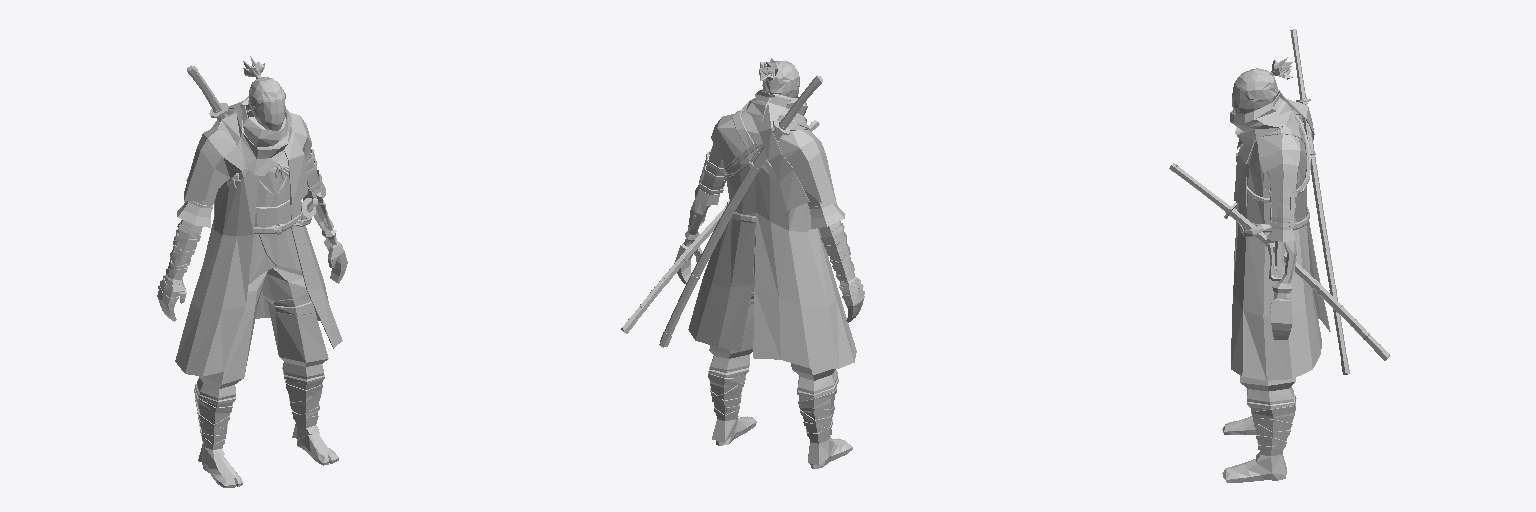
The model's file is sekiro.obj.
3 renders of one model, left to right at view 1: azimuth 30°, elevation 25°; view 2: azimuth 150°, elevation 25°; view 3: azimuth 270°, elevation 25°, orthographic.
Parts seen in each view (by area): view 1: Plane, Legs_Cube.001, Scarf_Circle.001, Jacket_Cube.004, Prosthetic_Cube.002, Cube.004_Cube.005, Arm_Cylinder, Cube.003_Cube.006, Cylinder.002_Cylinder.003, Cylinder.004_Cylinder.007, _Sword.002_Cylinder.006, Hand_Cube.003; view 2: Plane, Legs_Cube.001, Scarf_Circle.001, _Sword.002_Cylinder.006, Arm_Cylinder, Prosthetic_Cube.002, Cylinder.002_Cylinder.003, _Sword.000_Cylinder.002, Cube.004_Cube.005, Cube.003_Cube.006, Cylinder.004_Cylinder.007; view 3: Plane, Prosthetic_Cube.002, Scarf_Circle.001, Legs_Cube.001, _Sword.000_Cylinder.002, _Sword.002_Cylinder.006, Cube.004_Cube.005, Cube.003_Cube.006, Arm_Cylinder, Cylinder.002_Cylinder.003, Cube.006_Cube.010.
Part boxes in pixels (bbox=[...]): Plane: bbox=[175, 109, 342, 376]; Legs_Cube.001: bbox=[195, 266, 328, 461]; Scarf_Circle.001: bbox=[186, 96, 307, 207]; Jacket_Cube.004: bbox=[249, 117, 301, 281]; Prosthetic_Cube.002: bbox=[303, 149, 347, 283]; Cube.004_Cube.005: bbox=[248, 75, 285, 130]; Arm_Cylinder: bbox=[167, 151, 318, 279]; Cube.003_Cube.006: bbox=[202, 434, 338, 487]; Cylinder.002_Cylinder.003: bbox=[194, 367, 322, 449]; Cylinder.004_Cylinder.007: bbox=[166, 223, 200, 274]; _Sword.002_Cylinder.006: bbox=[187, 65, 228, 123]; Hand_Cube.003: bbox=[157, 274, 186, 321]; Plane: bbox=[688, 111, 856, 368]; Legs_Cube.001: bbox=[709, 261, 838, 465]; Scarf_Circle.001: bbox=[742, 89, 809, 210]; _Sword.002_Cylinder.006: bbox=[659, 75, 822, 347]; Arm_Cylinder: bbox=[703, 143, 854, 282]; Prosthetic_Cube.002: bbox=[675, 151, 726, 283]; Cylinder.002_Cylinder.003: bbox=[708, 364, 836, 437]; _Sword.000_Cylinder.002: bbox=[621, 120, 819, 333]; Cube.004_Cube.005: bbox=[762, 61, 799, 97]; Cube.003_Cube.006: bbox=[716, 416, 852, 468]; Cylinder.004_Cylinder.007: bbox=[821, 223, 854, 280]; Plane: bbox=[1231, 111, 1330, 380]; Prosthetic_Cube.002: bbox=[1267, 188, 1296, 339]; Scarf_Circle.001: bbox=[1230, 90, 1314, 206]; Legs_Cube.001: bbox=[1240, 375, 1295, 474]; _Sword.000_Cylinder.002: bbox=[1169, 163, 1389, 360]; _Sword.002_Cylinder.006: bbox=[1290, 29, 1349, 374]; Cube.004_Cube.005: bbox=[1232, 68, 1277, 113]; Cube.003_Cube.006: bbox=[1222, 416, 1285, 482]; Arm_Cylinder: bbox=[1267, 164, 1298, 217]; Cylinder.002_Cylinder.003: bbox=[1251, 398, 1296, 450]; Cube.006_Cube.010: bbox=[1236, 113, 1311, 202].
Size of the model in its own units: 0.8966 by 1.82 by 0.9207.